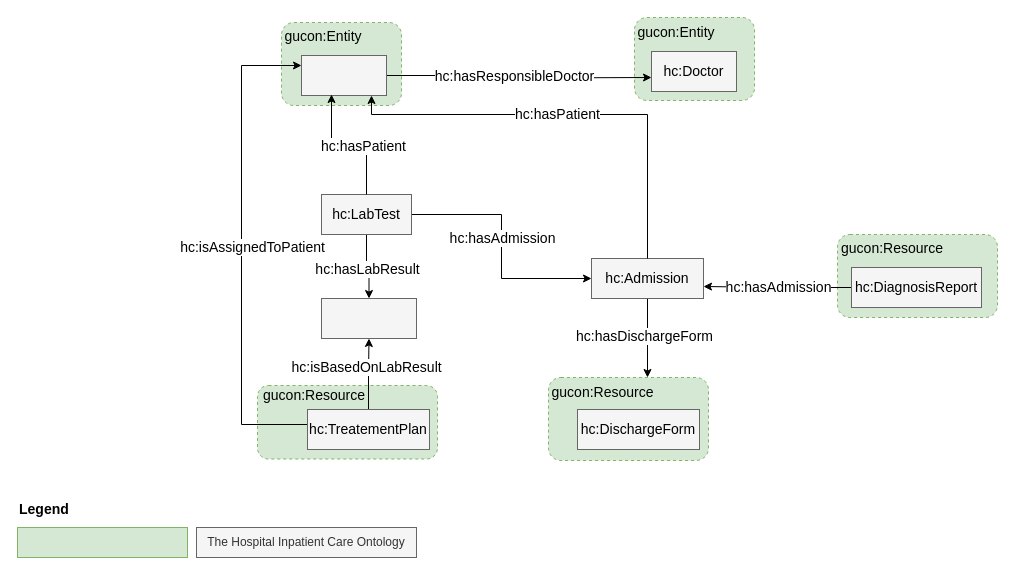
Some shapes in this 1015 by 575 pixel diagram are drawn without their labels. The box of each missing label's shape, as (x1, y1, x2, y2) in pixels:
hc:LabResult: (320, 298, 416, 338)
hc:Patient: (300, 54, 386, 96)
The GUCON Cored Ontology: (16, 526, 188, 558)
